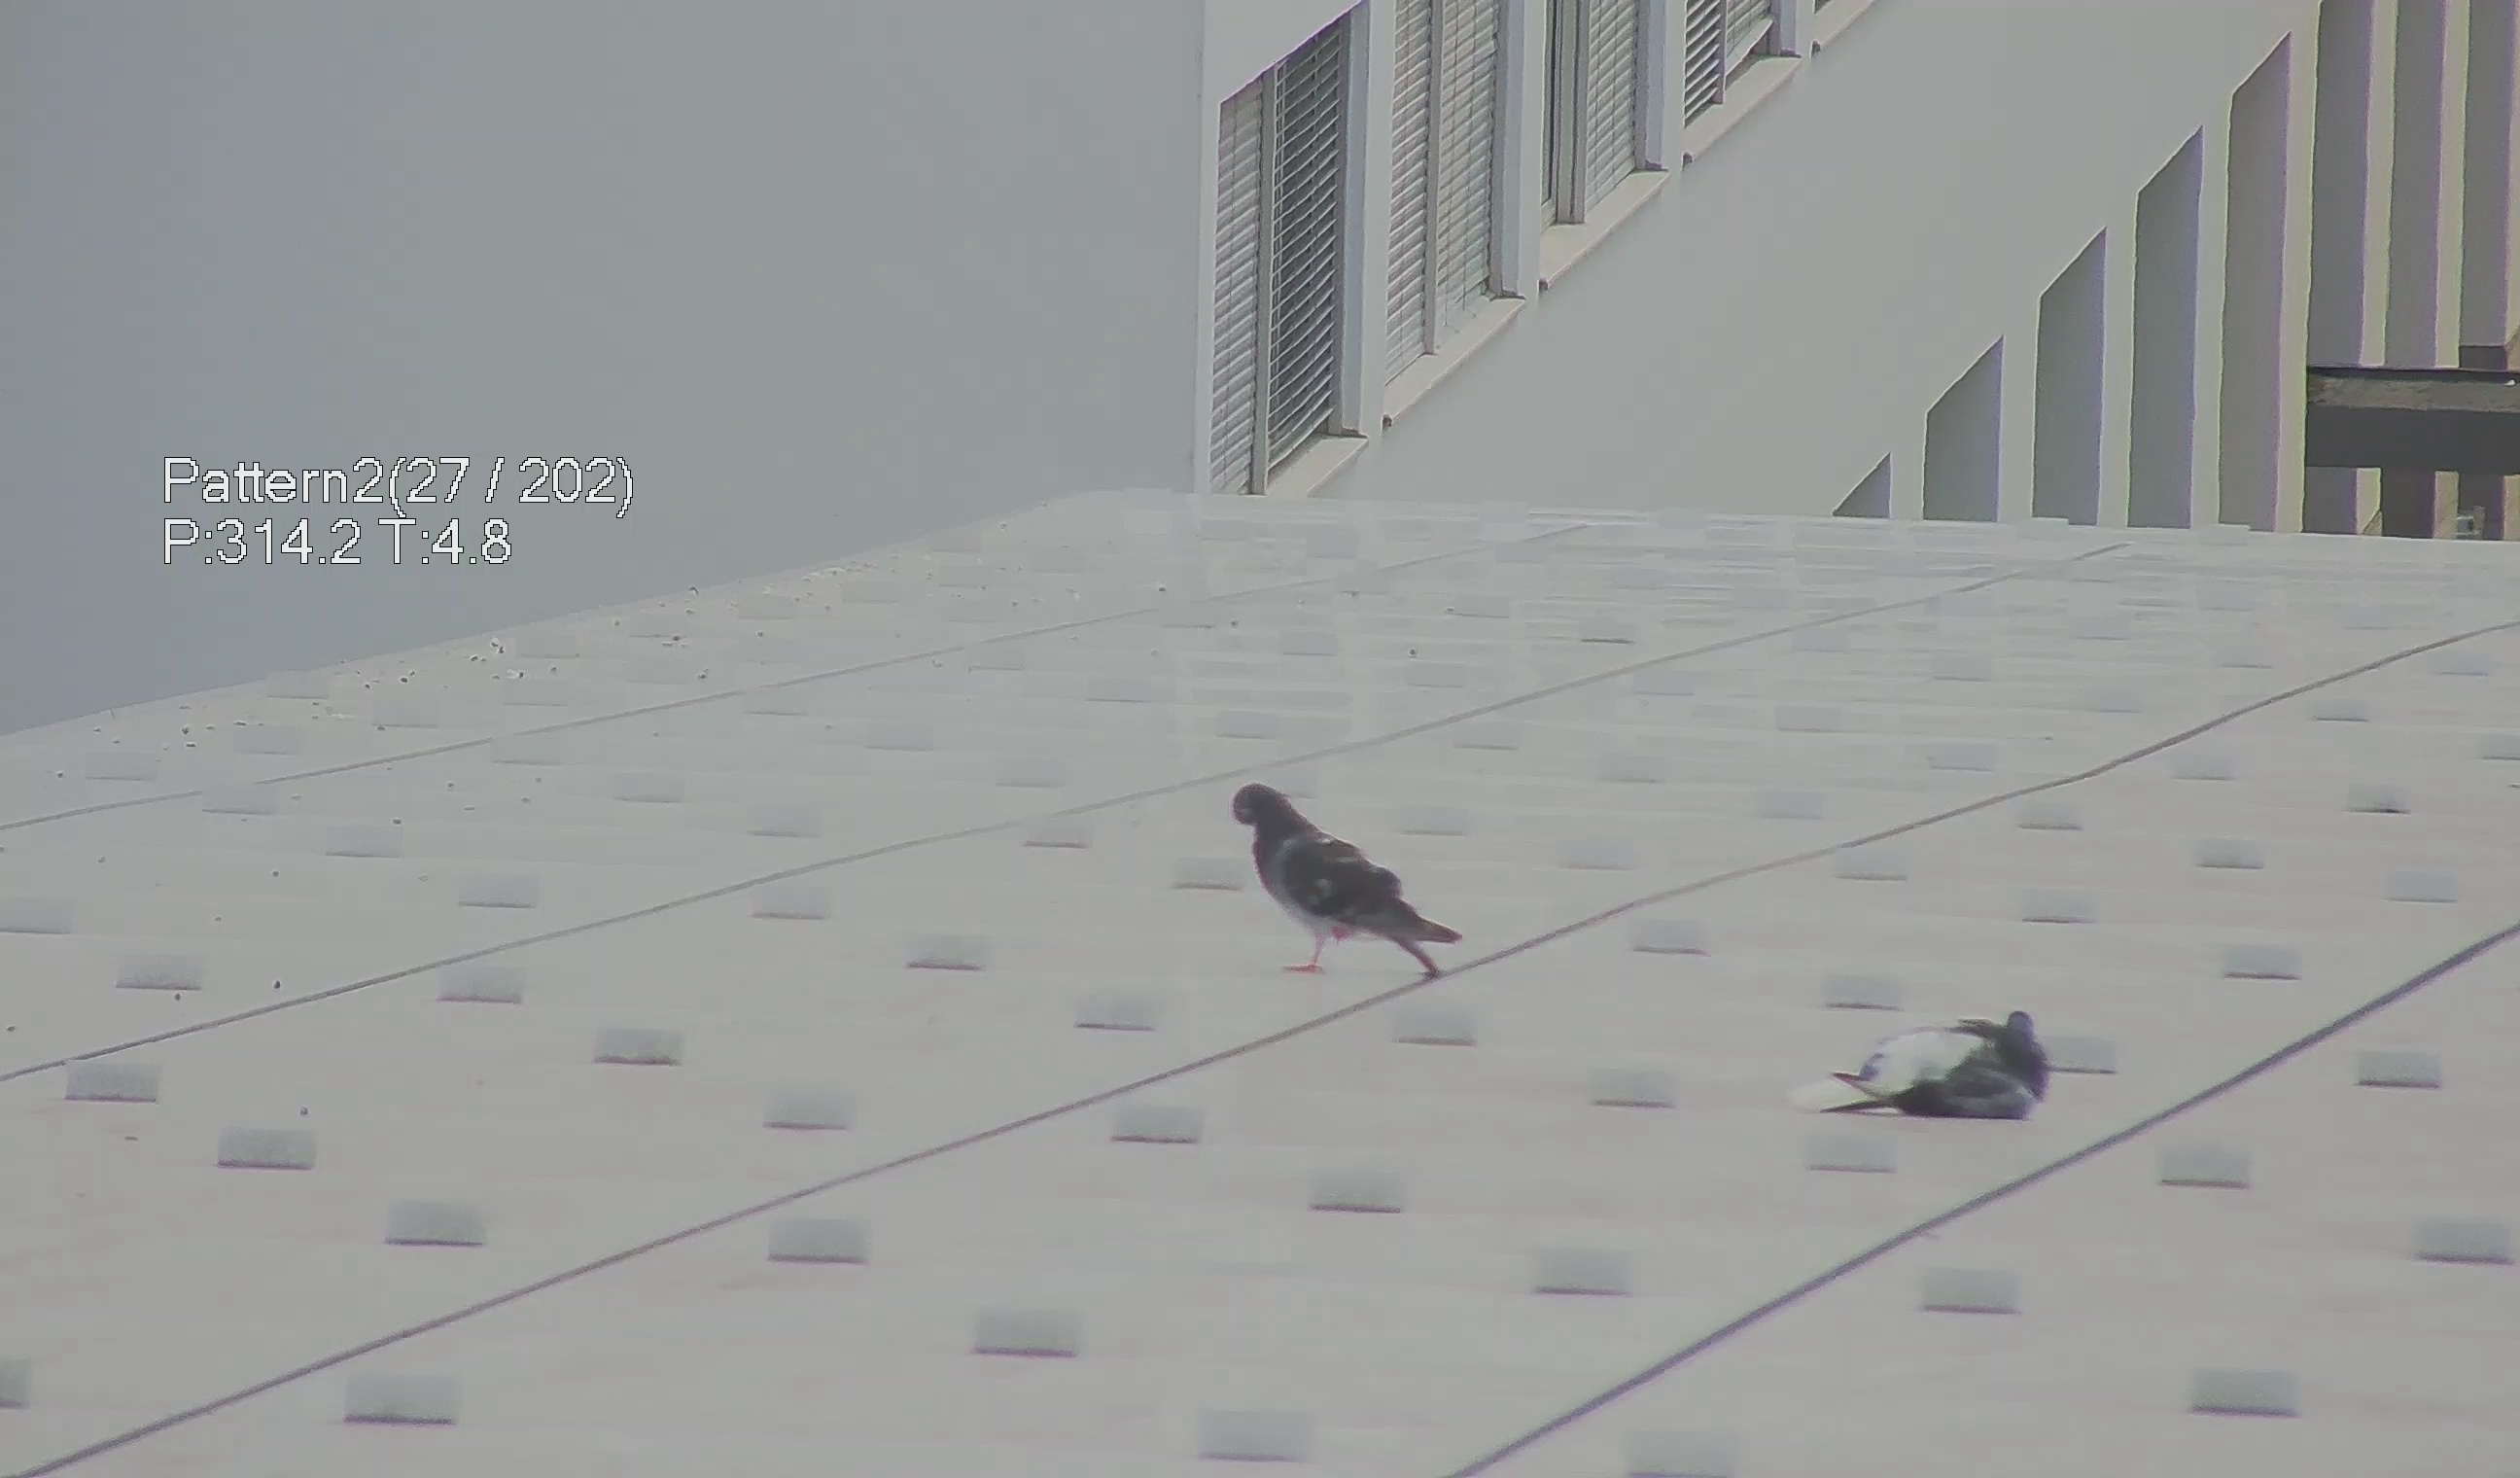Pigeon: (1226, 772, 1456, 991), (1769, 1003, 2094, 1130)
